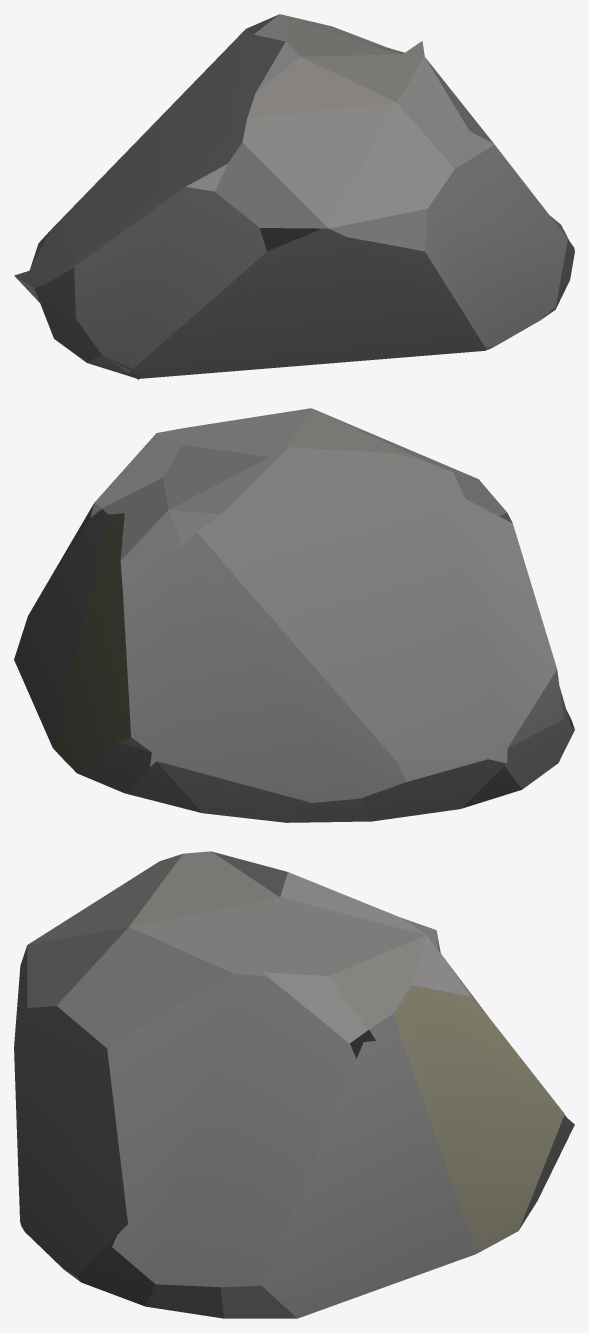
The model's file is rock_small_a.glb.
3 views of the same model, one above another, from view 1: azimuth 30°, elevation 25°; view 2: azimuth 150°, elevation 25°; view 3: azimuth 270°, elevation 25° (orthographic). The views are drawn at different scales.
Visible parts, largest first — view 1: rock_small_a; view 2: rock_small_a; view 3: rock_small_a.
Boxes of the visible parts, x1,y1,x2,y2 form: rock_small_a: [14, 14, 574, 379]; rock_small_a: [14, 408, 574, 822]; rock_small_a: [14, 851, 574, 1318].
Size of the model in its own units: 1.04 by 0.5148 by 0.8626.
